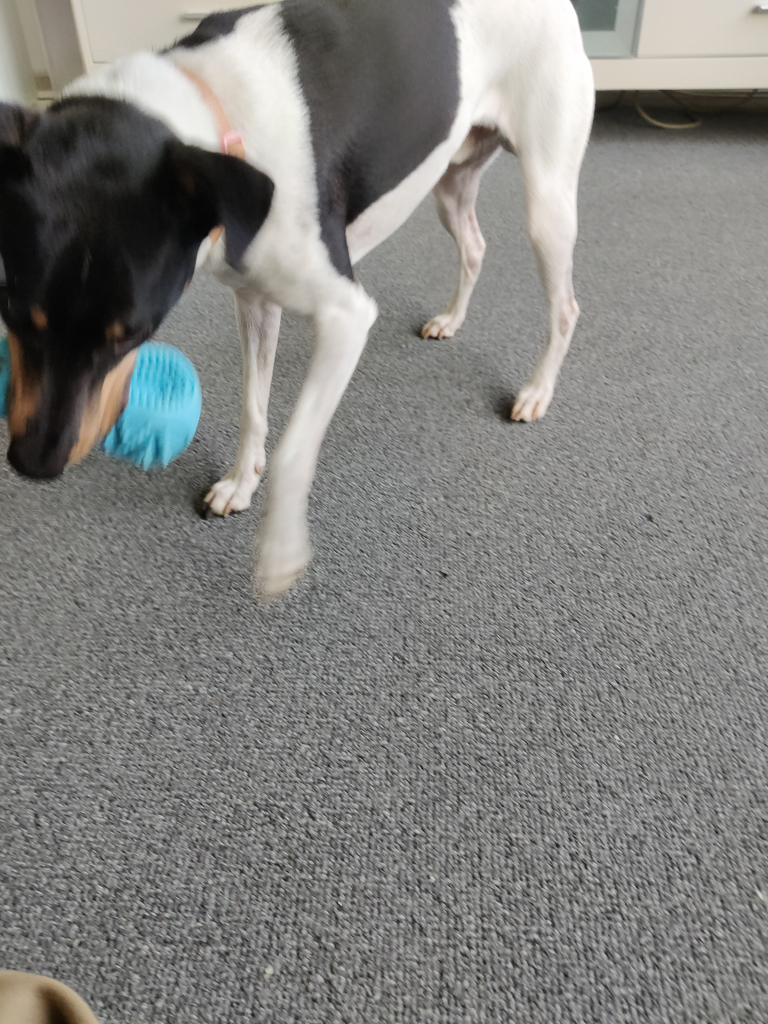Dog: (0, 0, 620, 651)
Humanoid: (0, 957, 119, 1024)
